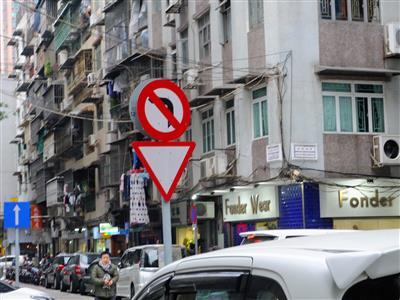noLeftTurn: (131, 76, 192, 142)
oneway: (1, 199, 31, 230)
yield: (128, 140, 197, 203)
